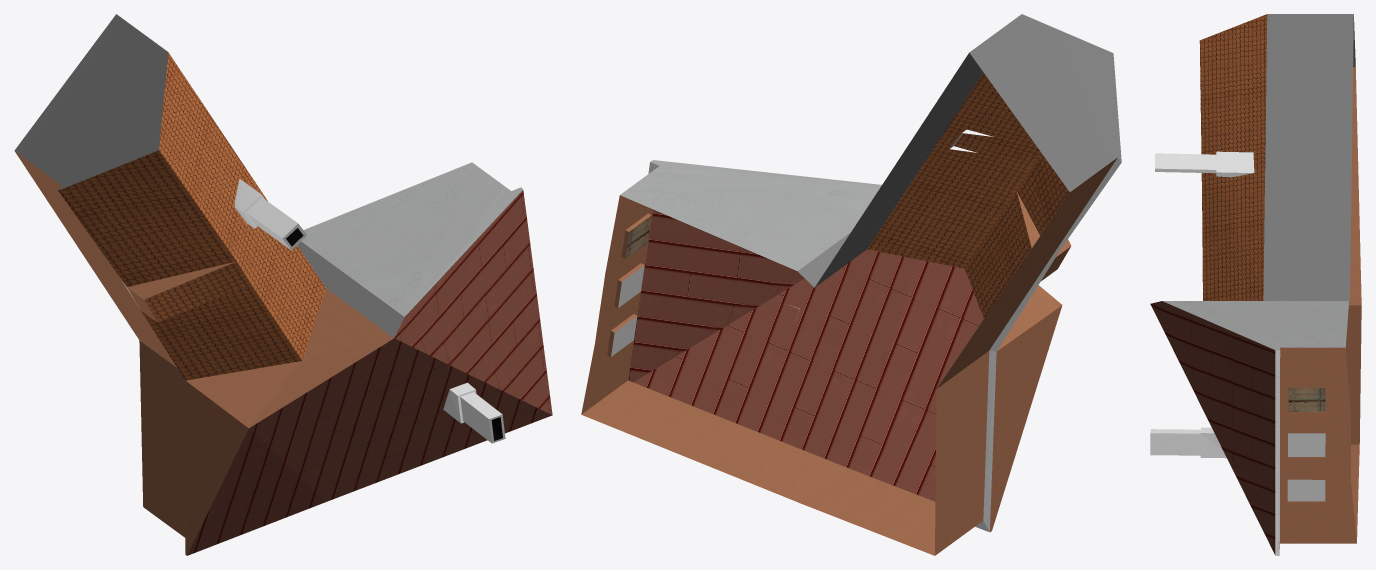
Rendered from Kiriku_8_1.obj.
3 renders of one model, left to right at view 1: azimuth 30°, elevation 25°; view 2: azimuth 150°, elevation 25°; view 3: azimuth 270°, elevation 25°, orthographic. The views are drawn at different scales.
Visible parts, largest first — view 1: Kiriku_8_1; view 2: Kiriku_8_1; view 3: Kiriku_8_1.
Boxes of the visible parts, <box> form: Kiriku_8_1: <box>14,14,552,555</box>; Kiriku_8_1: <box>581,14,1121,555</box>; Kiriku_8_1: <box>1150,14,1361,555</box>.
Size of the model in its own units: 21.33 by 21.19 by 9.5.
